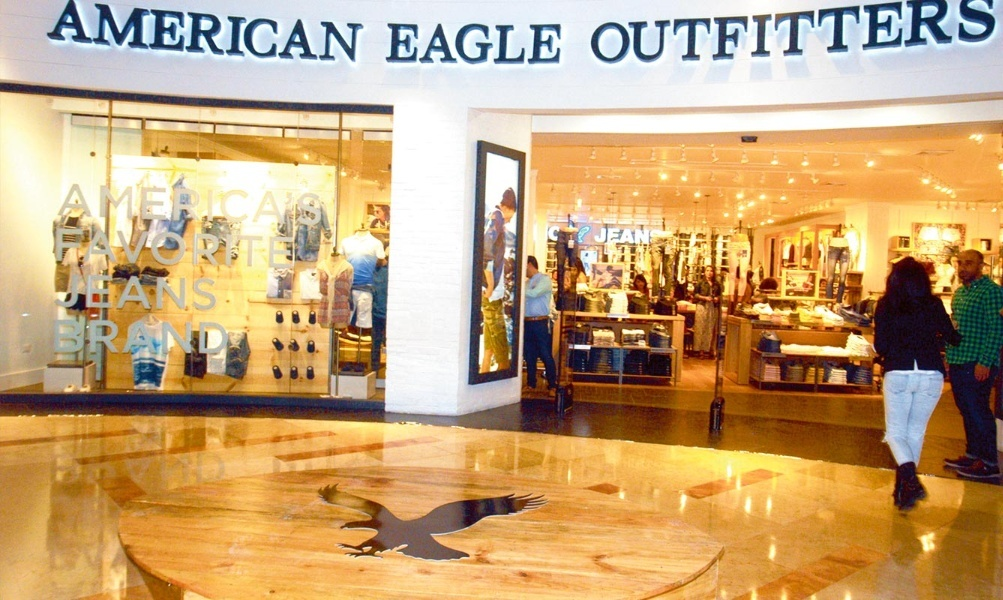text: (609, 1, 624, 68), (625, 1, 640, 68), (641, 1, 656, 68), (657, 1, 672, 68), (673, 1, 688, 68), (689, 1, 704, 68), (705, 1, 720, 68), (721, 1, 736, 68), (737, 1, 752, 68), (753, 1, 768, 68), (769, 1, 784, 68), (785, 1, 800, 68), (801, 1, 816, 68), (817, 1, 832, 68), (833, 1, 848, 68), (849, 1, 864, 68), (865, 1, 880, 68), (881, 1, 896, 68), (897, 1, 912, 68), (913, 1, 928, 68), (929, 1, 944, 68), (945, 1, 960, 68), (961, 1, 976, 68), (977, 1, 992, 68), (81, 1, 96, 66), (97, 1, 112, 66), (113, 1, 128, 66), (129, 1, 144, 66), (145, 1, 160, 66), (161, 1, 176, 66), (177, 1, 192, 66), (193, 1, 208, 66), (209, 1, 224, 66), (225, 1, 240, 66), (241, 1, 256, 66), (257, 1, 272, 66), (273, 1, 288, 66), (289, 1, 304, 66), (305, 1, 320, 66), (321, 1, 336, 66), (337, 1, 352, 66), (594, 1, 608, 68), (67, 1, 80, 66), (353, 1, 364, 66), (65, 226, 80, 271), (81, 226, 96, 271), (97, 226, 112, 271), (113, 226, 128, 271), (129, 226, 144, 271), (145, 226, 160, 271), (161, 226, 176, 271), (177, 226, 192, 271), (193, 226, 208, 271), (209, 226, 224, 271), (225, 226, 240, 271), (241, 226, 256, 271), (257, 226, 272, 271), (273, 226, 288, 271), (401, 21, 416, 65), (417, 21, 432, 65), (433, 21, 448, 65), (449, 21, 464, 65), (465, 21, 480, 65), (481, 21, 496, 65), (497, 21, 512, 65), (513, 21, 528, 65), (529, 21, 544, 65), (545, 21, 560, 65), (81, 184, 96, 228), (97, 184, 112, 228), (113, 184, 128, 228), (129, 184, 144, 228), (145, 184, 160, 228), (161, 184, 176, 228), (177, 184, 192, 228), (193, 184, 208, 228), (209, 184, 224, 228), (225, 184, 240, 228), (241, 184, 256, 228), (257, 184, 272, 228), (273, 184, 288, 228), (289, 184, 304, 228), (305, 184, 320, 228), (65, 271, 80, 312), (81, 271, 96, 312), (97, 271, 112, 312), (113, 271, 128, 312), (129, 271, 144, 312), (145, 271, 160, 312), (161, 271, 176, 312), (177, 271, 192, 312), (193, 271, 208, 312), (387, 21, 400, 65), (65, 319, 80, 355), (81, 319, 96, 355), (97, 319, 112, 355), (113, 319, 128, 355), (129, 319, 144, 355), (145, 319, 160, 355), (161, 319, 176, 355), (177, 319, 192, 355), (193, 319, 208, 355), (209, 319, 224, 355), (54, 226, 64, 271), (52, 319, 64, 355), (209, 271, 219, 312), (289, 226, 297, 271), (993, 1, 998, 68), (225, 319, 234, 355), (321, 184, 328, 228), (609, 226, 624, 246), (625, 226, 640, 246), (595, 226, 608, 246), (561, 21, 566, 65), (75, 184, 80, 228), (641, 226, 652, 246), (62, 271, 64, 312)
